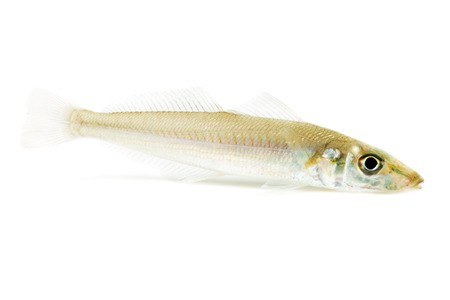kiss: (20, 84, 429, 205)
